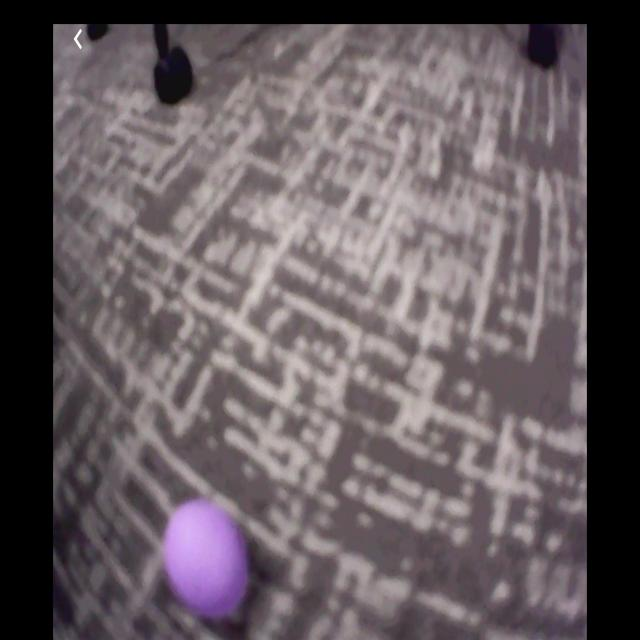ball: (163, 500, 251, 618)
